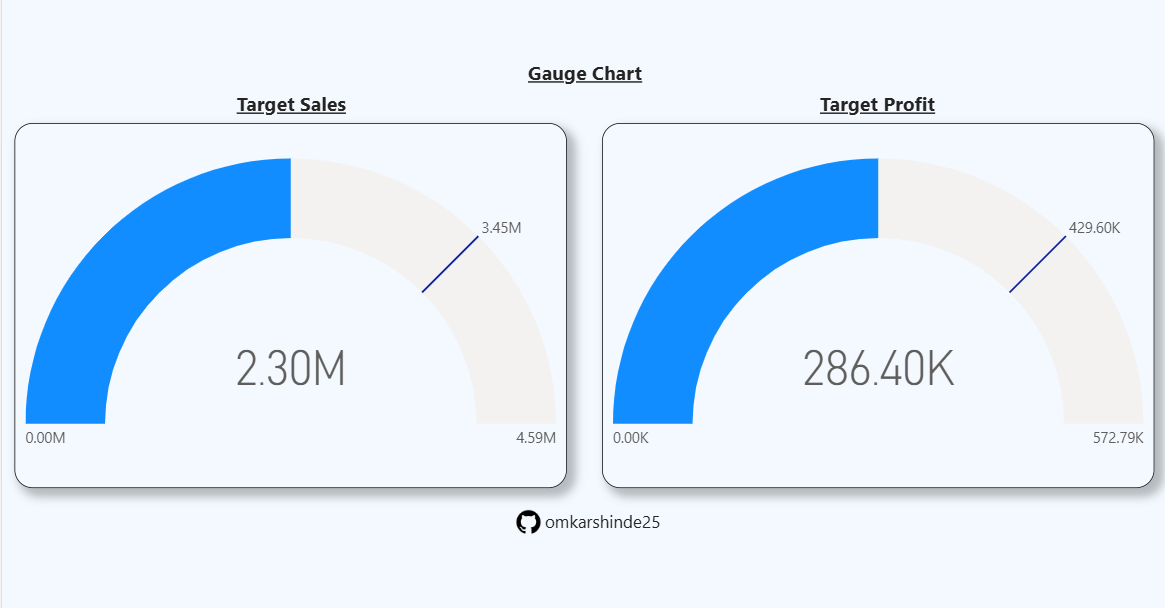

What the dashboard file says about the page in this screenshot:
{"tool":"powerbi","page":{"name":"Gauge Chart","canvas":[1280,720],"ordinal":13},"visuals":[{"type":"gauge","fields":{"Y":["Sum(Orders.Sales)"],"TargetValue":["Orders.Target Sales"]},"box":[13.7,159.2,606.5,400.7],"z":0},{"type":"gauge","fields":{"Y":["Sum(Orders.Profit)"],"TargetValue":["Orders.Target profit"]},"box":[658.7,159.2,606.5,400.7],"z":1000},{"type":"textbox","box":[13.7,118,607.9,41.2],"z":2000},{"type":"textbox","box":[657.3,118,607.9,41.2],"z":3000},{"type":"textbox","box":[0,83.7,1280.3,45.3],"z":4000},{"type":"textbox","box":[38.4,579.1,1241.9,37],"z":5000},{"type":"image","box":[544.7,578.8,67.1,36.5],"z":6000}]}

Visuals, with their boxes on the page's 1280x720 design canvas (x1, y1, x2, y2). These are canvas units, not pixel positions in the 1165x608 screenshot, which may show the page scaled, cropped or inside an application window:
gauge - Sum(Orders.Sales) x Orders.Target Sales: [14,159,620,560]
gauge - Sum(Orders.Profit) x Orders.Target profit: [659,159,1265,560]
textbox: [14,118,622,159]
textbox: [657,118,1265,159]
textbox: [0,84,1280,129]
textbox: [38,579,1280,616]
image: [545,579,612,615]
